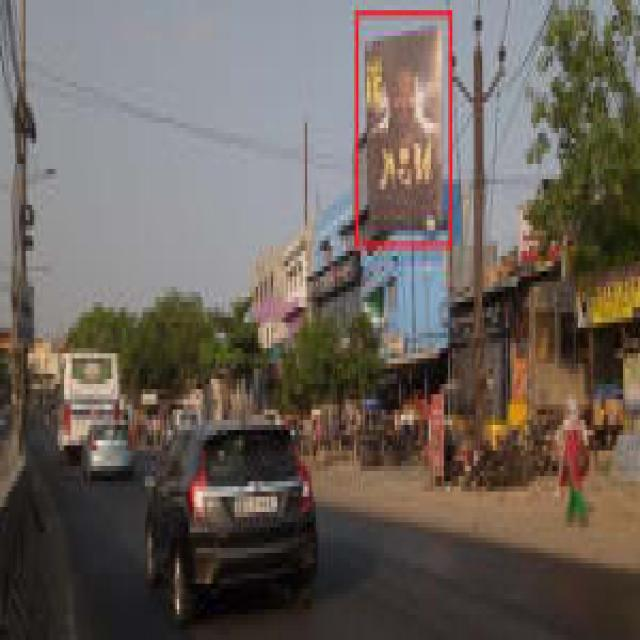Werbetafel frei: (366, 26, 442, 232)
